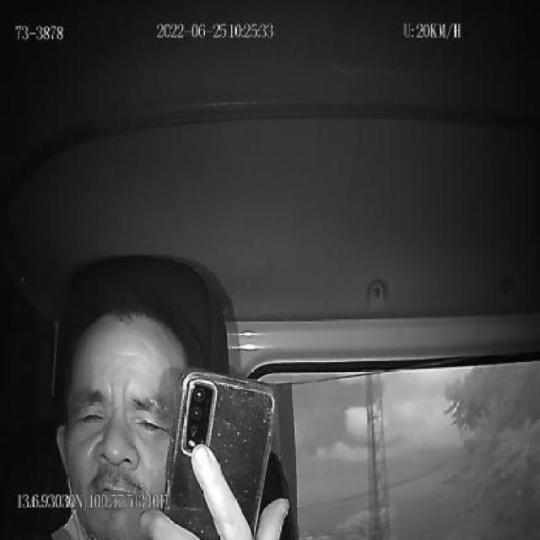phone: (162, 371, 277, 540)
